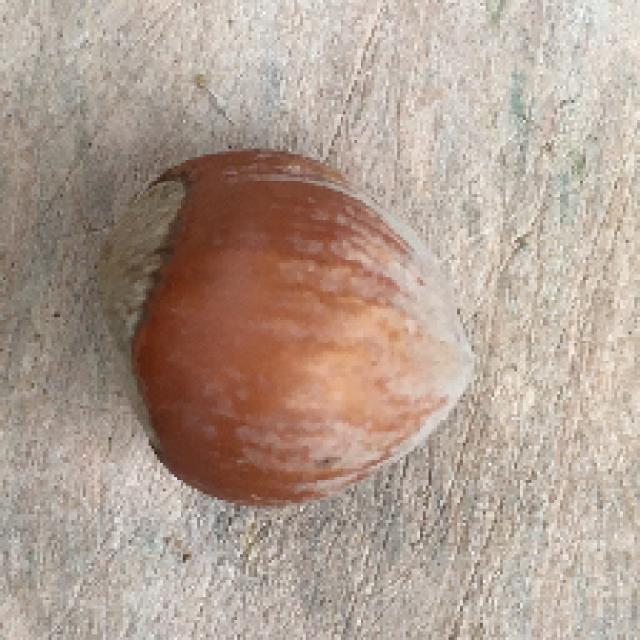qualityHazelnut: (81, 143, 479, 519)
